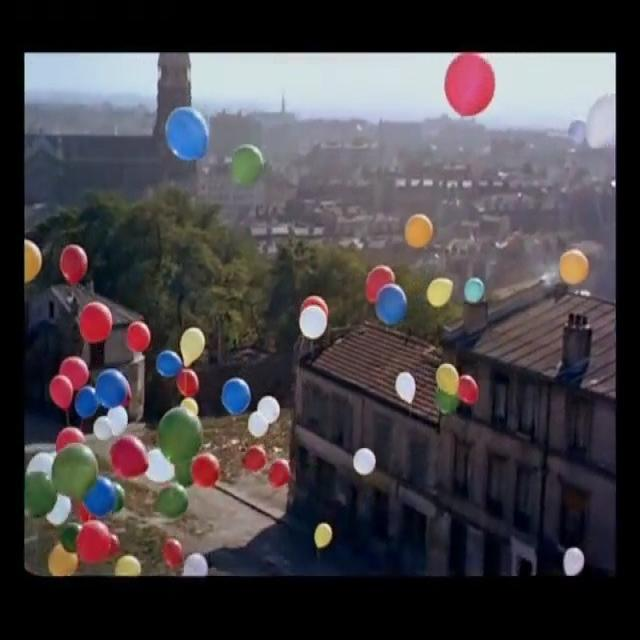balloon: (443, 52, 495, 117), (164, 106, 209, 162), (158, 405, 201, 461), (54, 444, 98, 497), (586, 98, 617, 152), (231, 142, 264, 186), (79, 520, 112, 562), (112, 437, 148, 475), (22, 468, 52, 513), (82, 300, 111, 342), (558, 248, 589, 285), (378, 284, 406, 324), (300, 298, 328, 338), (404, 212, 433, 248), (57, 357, 89, 389), (182, 325, 207, 365), (223, 379, 249, 416), (86, 476, 112, 513), (159, 484, 190, 514), (23, 237, 42, 284), (49, 545, 78, 575), (366, 265, 392, 298), (62, 246, 85, 282), (147, 446, 172, 479), (98, 372, 123, 404), (438, 362, 461, 394), (196, 455, 218, 488), (44, 495, 67, 526), (430, 276, 452, 308), (174, 368, 199, 395), (62, 517, 81, 552), (125, 322, 147, 352), (160, 350, 182, 380), (162, 535, 182, 567), (73, 391, 94, 420), (116, 551, 143, 573), (564, 548, 585, 576), (31, 449, 59, 470), (185, 551, 208, 576), (108, 482, 127, 512), (398, 377, 419, 403), (52, 377, 68, 411), (461, 379, 481, 405), (355, 449, 375, 475), (245, 448, 265, 474), (260, 399, 282, 422), (271, 461, 293, 483), (437, 393, 460, 414), (465, 276, 485, 300), (108, 407, 126, 433), (316, 522, 332, 550), (248, 414, 268, 436), (58, 430, 87, 445), (182, 396, 202, 412), (94, 418, 110, 437), (110, 533, 122, 558)
